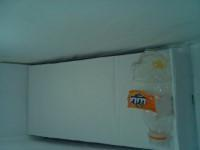bottle: (126, 48, 174, 146)
